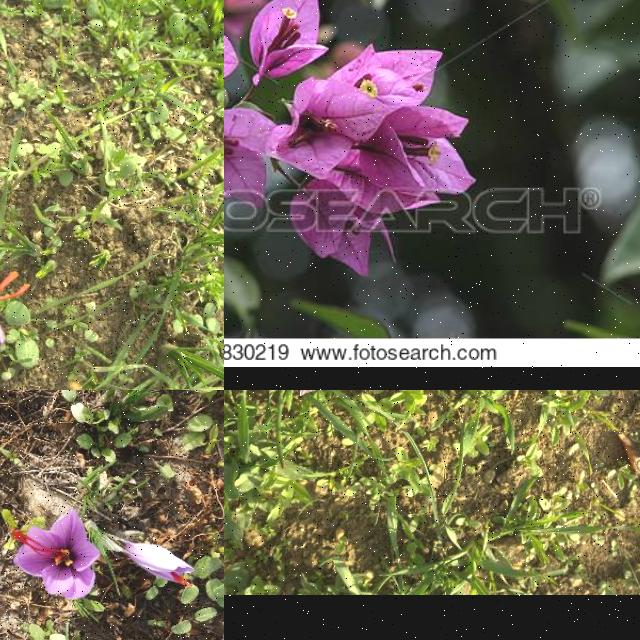flower: (12, 507, 102, 601), (122, 544, 196, 588)
